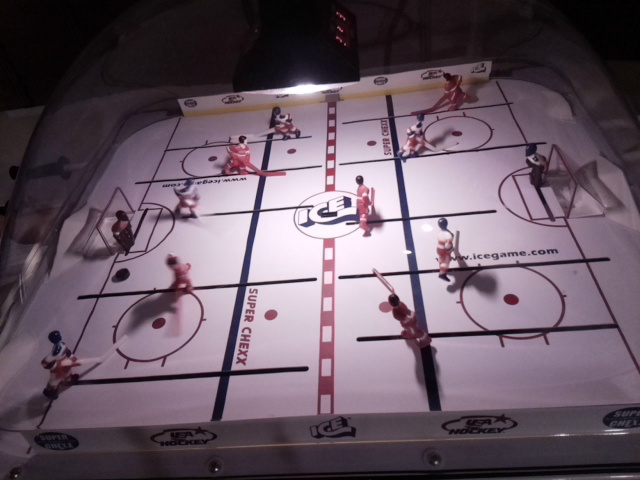puck: (115, 267, 130, 281)
